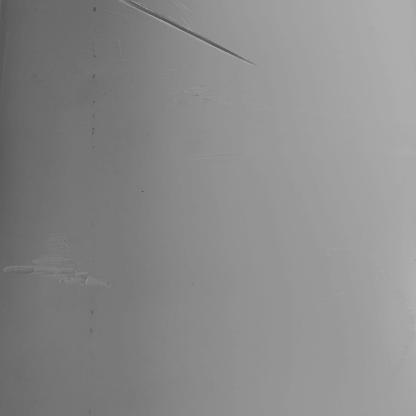sunshang: (119, 1, 255, 67), (1, 256, 117, 292)
